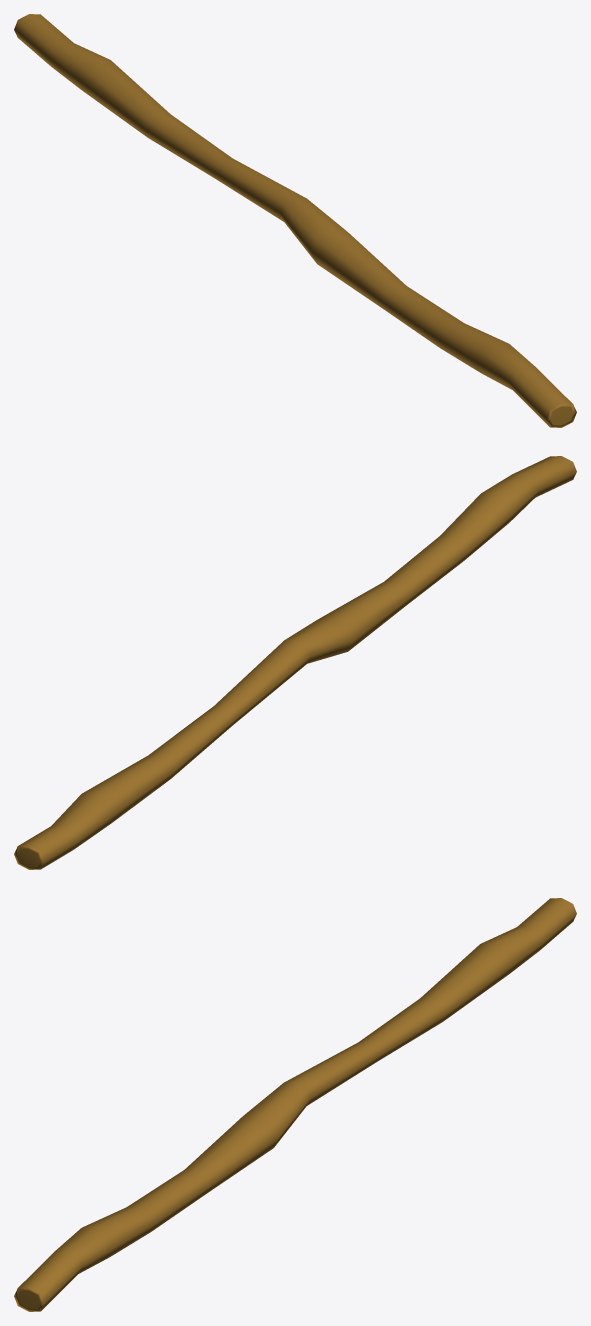
File: Vine_Trunck.fbx
The picture shows the model from 3 angles, top to bottom: view 1: azimuth 30°, elevation 25°; view 2: azimuth 150°, elevation 25°; view 3: azimuth 330°, elevation 25°; orthographic projection.
Parts seen in each view (by area): view 1: pCube5; view 2: pCube5; view 3: pCube5.
Part boxes in pixels (left/top/right/bottom): pCube5: left=14, top=14, right=576, bottom=427; pCube5: left=14, top=456, right=576, bottom=869; pCube5: left=14, top=898, right=576, bottom=1311.
Bounding box in the file's own units: 40.82 × 38.15 × 914.
